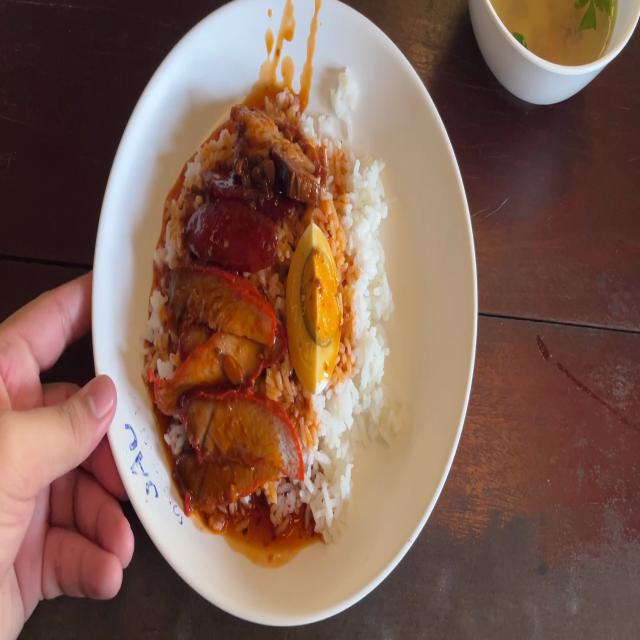01boiled_egg: (291, 230, 342, 382)
01chainese_sausage: (193, 170, 282, 258)
01crispy_pork: (242, 110, 314, 190)
01red_pork: (165, 274, 294, 494)
01red_pork_and_crispy_pork: (170, 120, 379, 508)
01rice: (322, 110, 384, 238), (347, 240, 387, 395), (307, 394, 356, 518)
